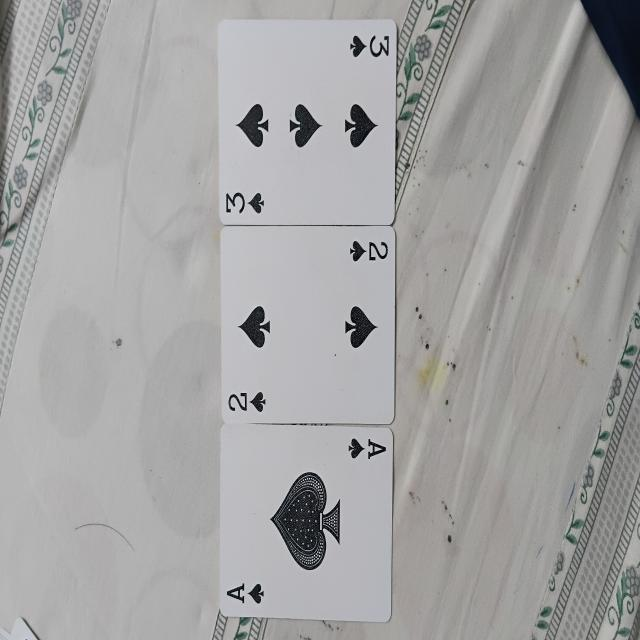2S: (224, 226, 396, 421)
3S: (215, 18, 398, 227)
AS: (220, 422, 392, 620)
